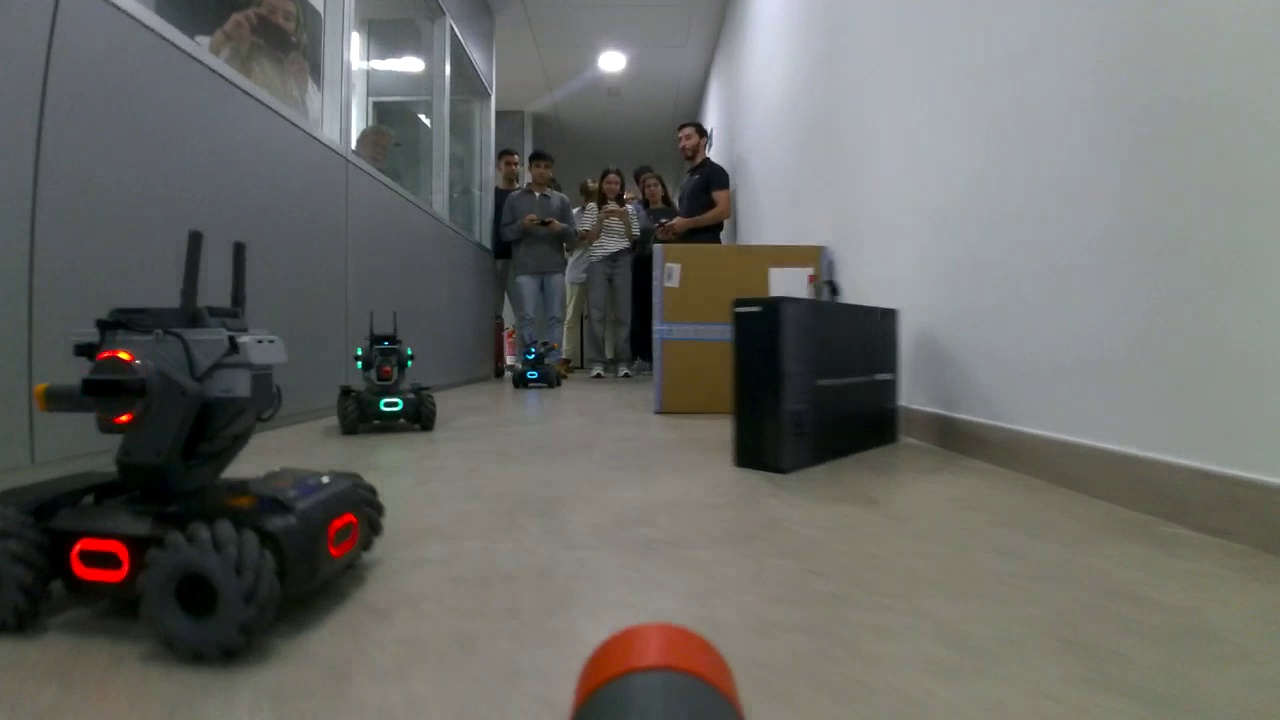robot: (6, 306, 382, 666), (335, 329, 435, 439), (512, 341, 567, 393)
